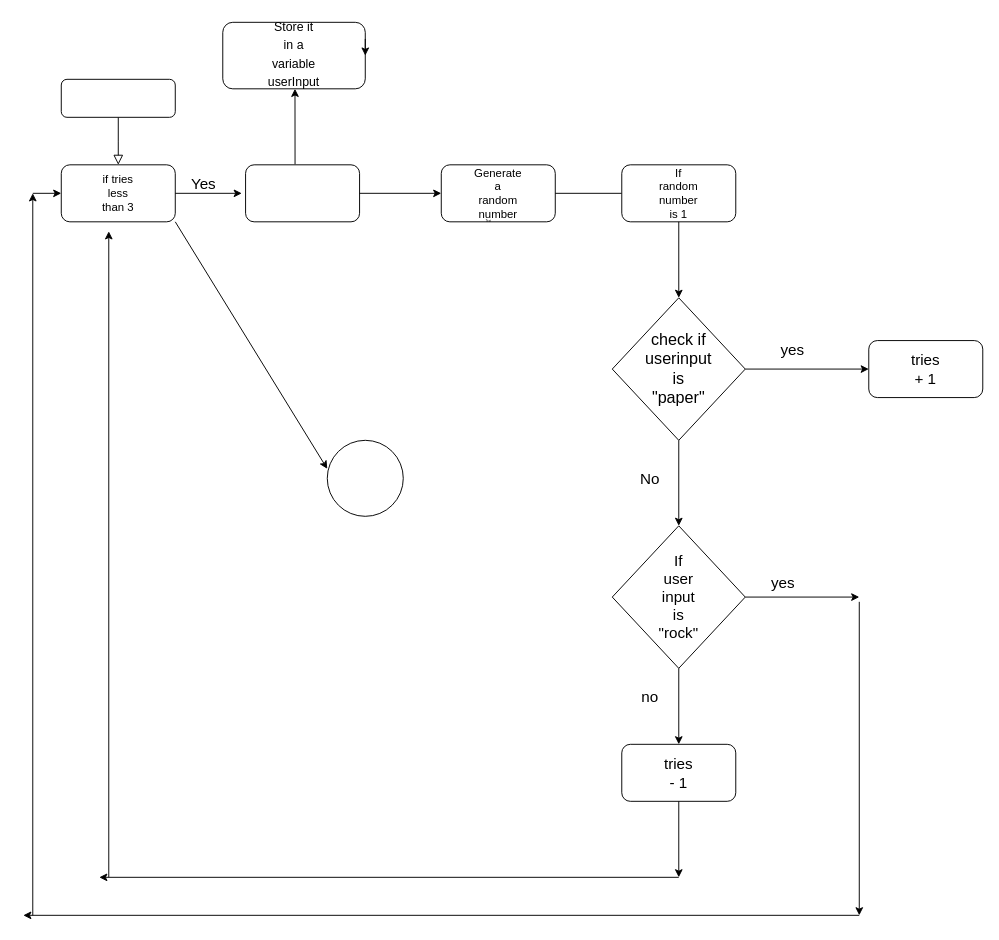
The diagram is 999 pixels wide and 940 high, and some of its shapes have lost their labels. Each missing label, with the centre of its shape:
"Ask for input" belongs at pixel 302 193.
"Display that you lose" belongs at pixel 364 477.
"Start" belongs at pixel 117 97.
